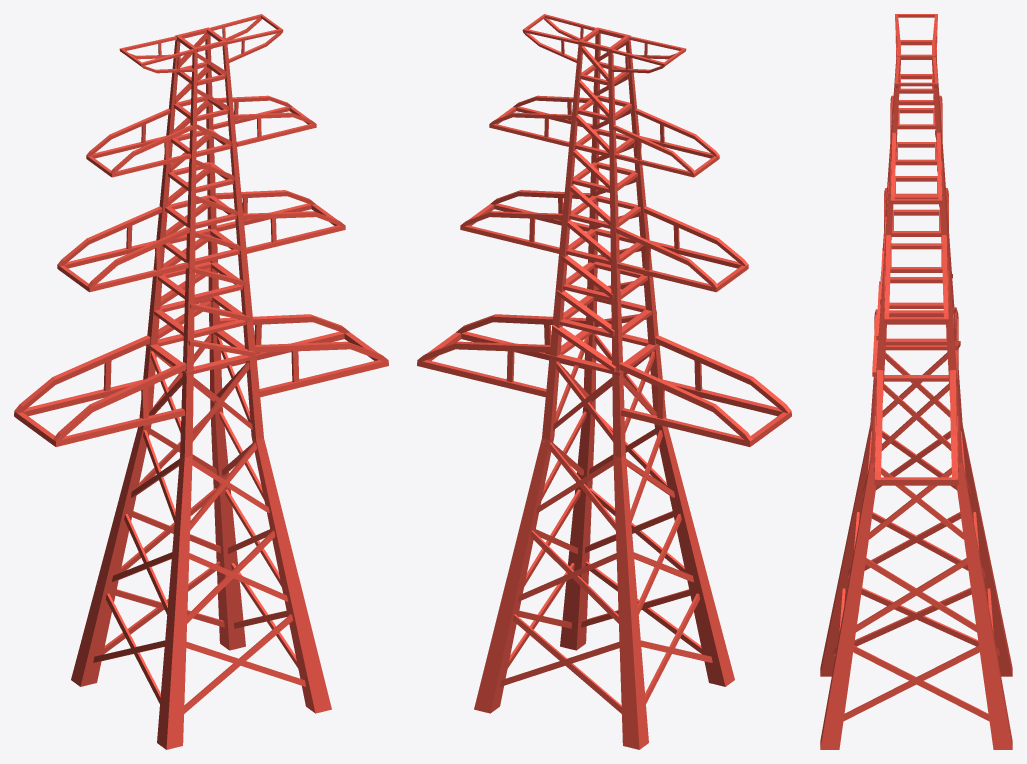
The model's file is somewhere.glb.
3 views of the same model, side by side, from view 1: azimuth 30°, elevation 25°; view 2: azimuth 150°, elevation 25°; view 3: azimuth 270°, elevation 25° (orthographic).
Parts seen in each view (by area): view 1: somewhere; view 2: somewhere; view 3: somewhere.
Boxes of the visible parts, x1,y1,x2,y2 form: somewhere: (14, 14, 388, 749); somewhere: (417, 14, 791, 749); somewhere: (820, 14, 1012, 749).
Bounding box in the file's own units: 1.61 × 3.04 × 0.8016.
